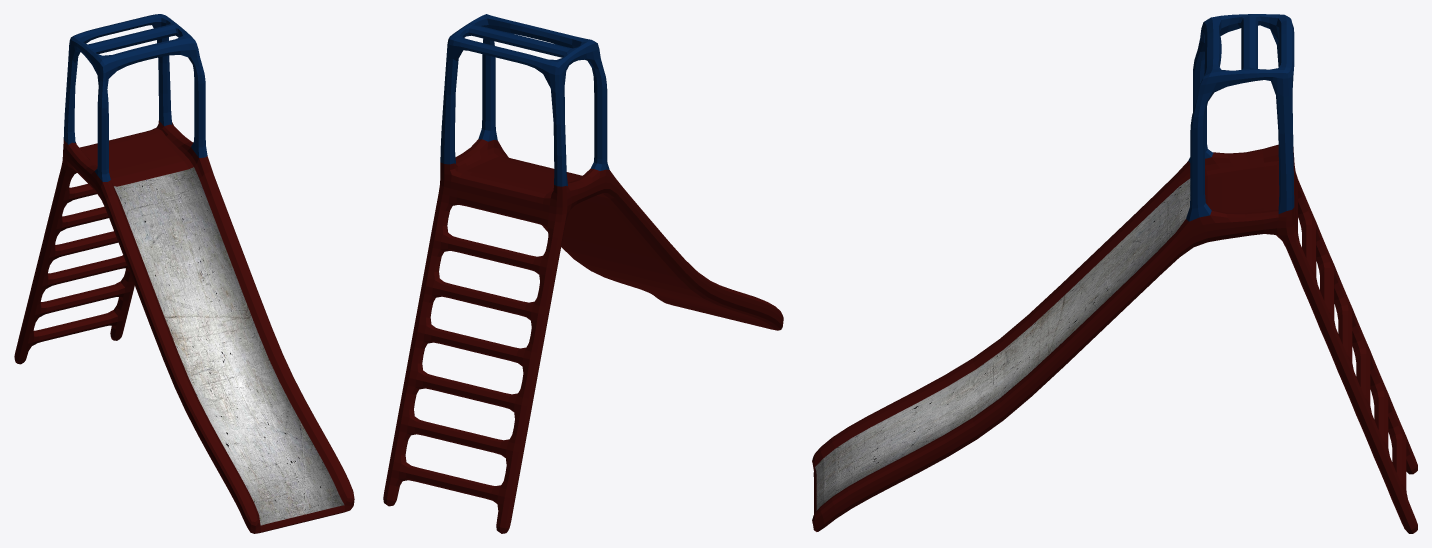
File: Gorka.obj
3 renders of one model, left to right at view 1: azimuth 30°, elevation 25°; view 2: azimuth 150°, elevation 25°; view 3: azimuth 270°, elevation 25°, orthographic. The views are drawn at different scales.
Visible parts, largest first — view 1: Конус; view 2: Конус; view 3: Конус.
Boxes of the visible parts, <box> form: Конус: <box>14,14,354,533</box>; Конус: <box>383,14,783,533</box>; Конус: <box>812,14,1417,533</box>.
Bounding box in the file's own units: 1.57 × 5.05 × 6.01.
